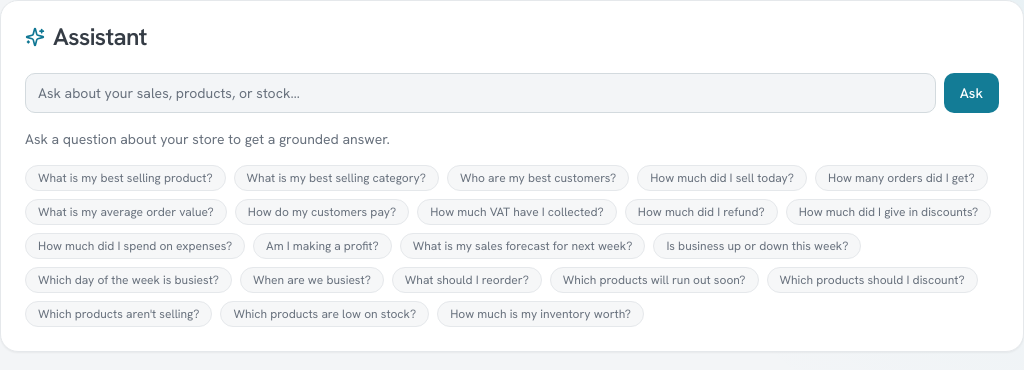
it: AssistantPanel (#228 in-app assistant surface) › sends the typed question and renders the grounded answer
The width and height of the screenshot is (1024, 370).
Step 1. Type "What is my best selling product?" into the field named "assistant" → (480, 93), box [25,73,936,113]
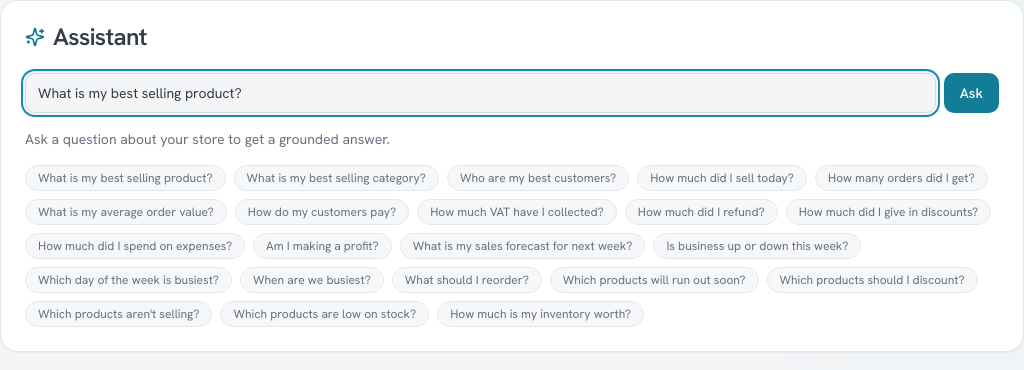
Step 2. Click the button "Ask" → (971, 93), box [944,73,999,113]
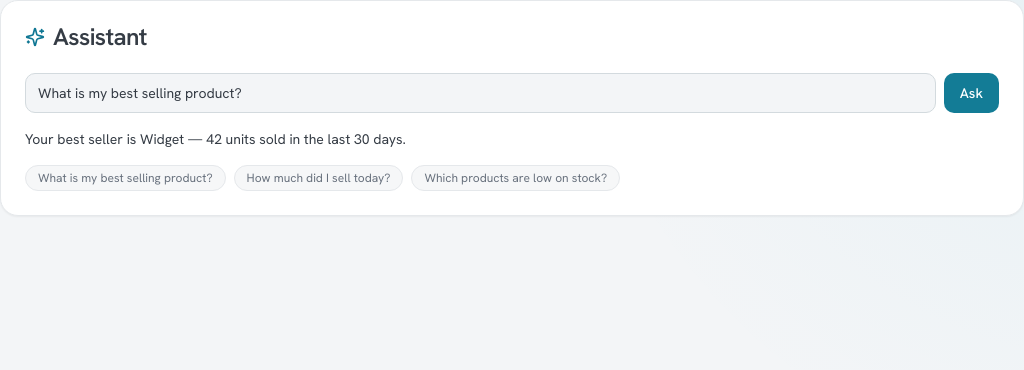
Expected: the button "What is my best selling product?" is shown, [25,165,226,191]
Expected: the text "Your best seller is Widget — 42 units sold in the last 30 days." is shown, [25,130,406,148]
